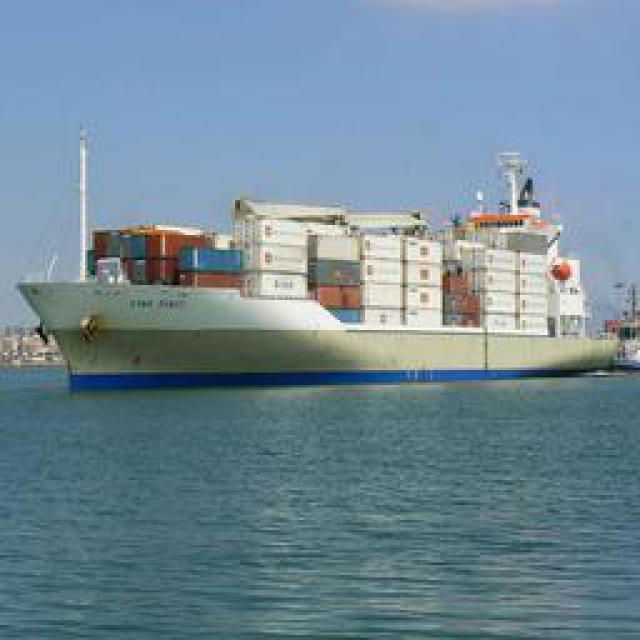Ship: (24, 142, 624, 390)
